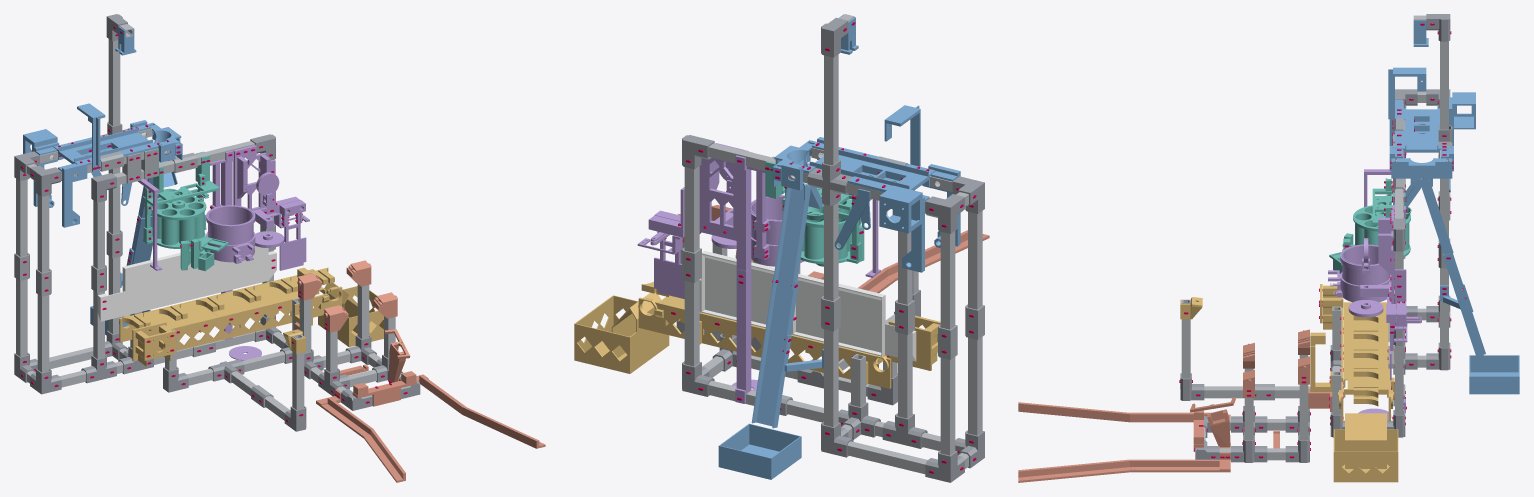
The model's file is maqueta_impresa.glb.
3 renders of one model, left to right at view 1: azimuth 30°, elevation 25°; view 2: azimuth 150°, elevation 25°; view 3: azimuth 270°, elevation 25°, orthographic. The views are drawn at different scales.
Visible parts, largest first — view 1: vas_panel_a, vas_panel_b, vas_lat_s_a, tap_tubo, tap_pre_placa, vas_bandeja, vas_lat_s_b, alm_tambor, alm_puente, vas_bancada_b, t_T3-Q2, mon_rod_mot_m (+35 smaller); view 2: vas_panel_a, vas_bandeja, mon_canal_b, vas_panel_b, mon_e4, mon_bandeja, vas_lat_n_b, mon_jaula_nema, tap_pre_placa, tap_puntal_inf, vas_lat_n_a, tap_puntal_sup (+52 smaller); view 3: vas_bandeja, mon_e4, mon_bandeja, vas_bancada_b, tap_tubo, can_guia_v_xp, can_guia_recta_xp, mon_bancada, mon_canal_b, can_guia_v_xn, tap_pre_placa, mon_jaula_nema (+19 smaller).
Boxes of the visible parts, left/top/right/bottom form: vas_panel_a: left=97, top=253, right=196, bottom=321; vas_panel_b: left=197, top=246, right=276, bottom=298; vas_lat_s_a: left=132, top=311, right=242, bottom=366; tap_tubo: left=208, top=206, right=254, bottom=263; tap_pre_placa: left=233, top=145, right=277, bottom=216; vas_bandeja: left=318, top=282, right=383, bottom=347; vas_lat_s_b: left=242, top=286, right=342, bottom=334; alm_tambor: left=152, top=197, right=204, bottom=245; alm_puente: left=142, top=151, right=219, bottom=205; vas_bancada_b: left=205, top=276, right=326, bottom=316; t_T3-Q2: left=108, top=39, right=120, bottom=126; mon_rod_mot_m: left=58, top=162, right=87, bottom=227; vas_panel_a: left=791, top=274, right=916, bottom=361; vas_bandeja: left=574, top=292, right=669, bottom=373; mon_canal_b: left=751, top=276, right=798, bottom=428; vas_panel_b: left=699, top=251, right=791, bottom=334; mon_e4: left=772, top=140, right=822, bottom=291; mon_bandeja: left=718, top=423, right=801, bottom=479; vas_lat_n_b: left=638, top=297, right=765, bottom=357; mon_jaula_nema: left=879, top=185, right=929, bottom=272; tap_pre_placa: left=699, top=143, right=748, bottom=240; tap_puntal_inf: left=735, top=269, right=751, bottom=403; vas_lat_n_a: left=764, top=328, right=891, bottom=388; tap_puntal_sup: left=735, top=150, right=752, bottom=286; vas_bandeja: left=1333, top=413, right=1398, bottom=482; mon_e4: left=1391, top=158, right=1453, bottom=260; mon_bandeja: left=1469, top=355, right=1519, bottom=394; vas_bancada_b: left=1343, top=334, right=1388, bottom=397; tap_tubo: left=1337, top=245, right=1389, bottom=302; can_guia_v_xp: left=1018, top=459, right=1135, bottom=482; can_guia_recta_xp: left=1130, top=452, right=1230, bottom=472; mon_bancada: left=1404, top=109, right=1439, bottom=155; mon_canal_b: left=1443, top=253, right=1485, bottom=363; can_guia_v_xn: left=1018, top=402, right=1129, bottom=422; tap_pre_placa: left=1378, top=210, right=1394, bottom=303; mon_jaula_nema: left=1449, top=92, right=1475, bottom=146.
Bounding box in the file's own units: 0.7032 × 0.6926 × 0.8976.
